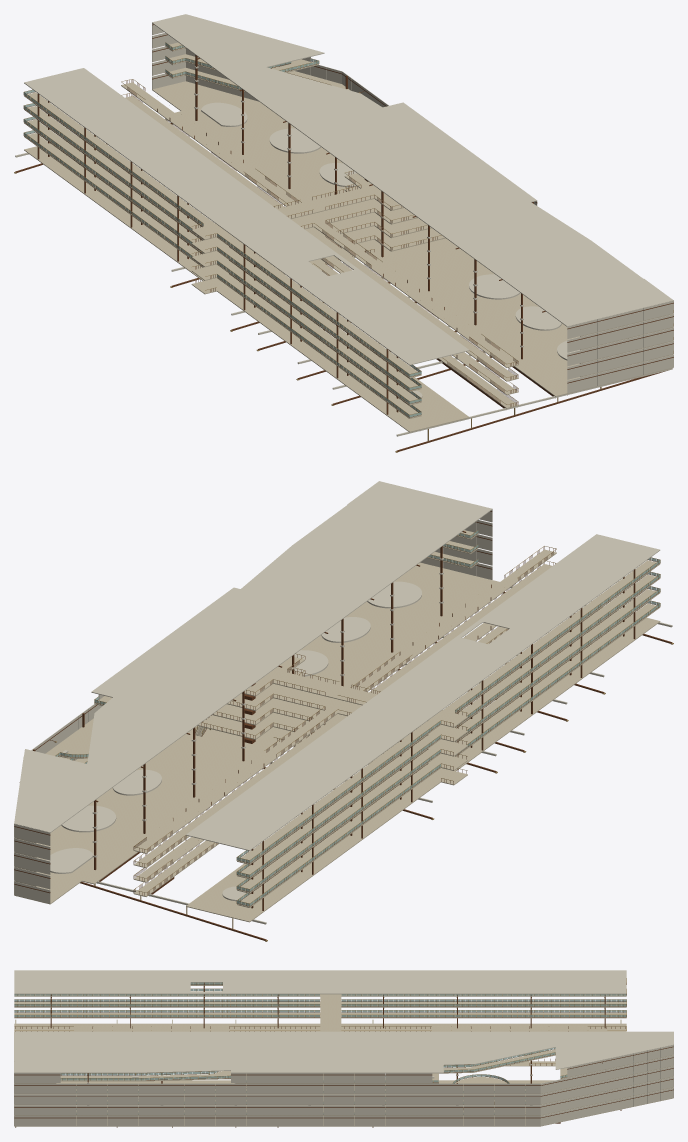
The model's file is QUIET_GROVE_ARCHITECTURE_r002.glb.
3 views of the same model, one above another, from view 1: azimuth 30°, elevation 25°; view 2: azimuth 150°, elevation 25°; view 3: azimuth 270°, elevation 25° (orthographic). The views are drawn at different scales.
Parts seen in each view (by area): view 1: QG_Batch_462, QG_Batch_461, QG_Batch_0, QG_Batch_3, QG_Batch_95, QG_Batch_94, QG_Batch_53, QG_Batch_52, QG_Batch_12, QG_Batch_4, QG_Batch_134, QG_Batch_168 (+18 smaller); view 2: QG_Batch_462, QG_Batch_461, QG_Batch_0, QG_Batch_4, QG_Batch_94, QG_Batch_95, QG_Batch_3, QG_Batch_52, QG_Batch_53, QG_Batch_11, QG_Batch_12, QG_Batch_168 (+13 smaller); view 3: QG_Batch_462, QG_Batch_461, QG_Batch_134, QG_Batch_3, QG_Batch_4, QG_Batch_12, QG_Batch_11, QG_Batch_95, QG_Batch_53, QG_Batch_96, QG_Batch_94, QG_Batch_52 (+77 smaller).
Boxes of the visible parts, <box> form: QG_Batch_462: <box>152,14,673,326</box>; QG_Batch_461: <box>24,68,469,365</box>; QG_Batch_0: <box>152,81,673,393</box>; QG_Batch_3: <box>217,252,567,432</box>; QG_Batch_95: <box>217,223,518,391</box>; QG_Batch_94: <box>24,82,297,240</box>; QG_Batch_53: <box>217,237,518,405</box>; QG_Batch_52: <box>24,96,283,253</box>; QG_Batch_12: <box>217,256,518,418</box>; QG_Batch_4: <box>24,136,204,280</box>; QG_Batch_134: <box>191,59,673,336</box>; QG_Batch_168: <box>217,233,421,378</box>; QG_Batch_462: <box>14,481,492,832</box>; QG_Batch_461: <box>186,534,660,850</box>; QG_Batch_0: <box>14,562,491,904</box>; QG_Batch_4: <box>133,767,440,922</box>; QG_Batch_94: <box>133,710,440,879</box>; QG_Batch_95: <box>354,549,660,727</box>; QG_Batch_3: <box>347,580,660,771</box>; QG_Batch_52: <box>134,724,440,893</box>; QG_Batch_53: <box>369,564,660,742</box>; QG_Batch_11: <box>133,764,440,907</box>; QG_Batch_12: <box>454,603,660,756</box>; QG_Batch_168: <box>443,560,660,713</box>; QG_Batch_462: <box>14,1031,673,1073</box>; QG_Batch_461: <box>14,970,626,994</box>; QG_Batch_134: <box>14,994,673,1083</box>; QG_Batch_3: <box>14,1023,320,1084</box>; QG_Batch_4: <box>341,1023,626,1066</box>; QG_Batch_12: <box>14,1013,320,1018</box>; QG_Batch_11: <box>341,1013,626,1055</box>; QG_Batch_95: <box>14,991,320,1031</box>; QG_Batch_53: <box>14,1002,320,1007</box>; QG_Batch_96: <box>14,1065,673,1094</box>; QG_Batch_94: <box>341,994,626,1031</box>; QG_Batch_52: <box>341,1002,626,1007</box>.
Bounding box in the file's own units: 96.41 × 28.26 × 250.
Materials: 8 (6 with a texture image).
